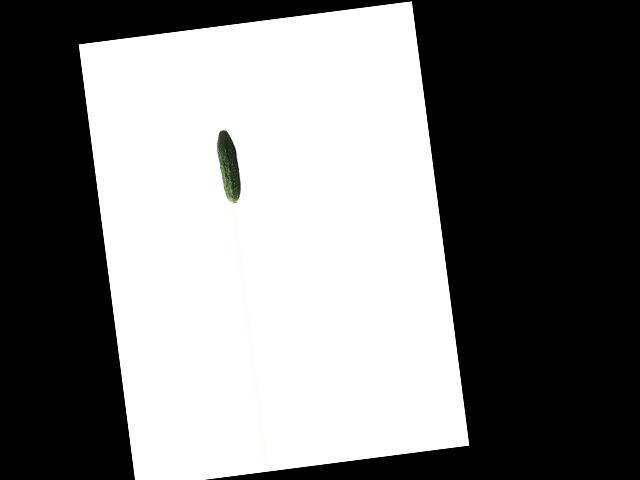cucumber: (215, 128, 242, 204)
